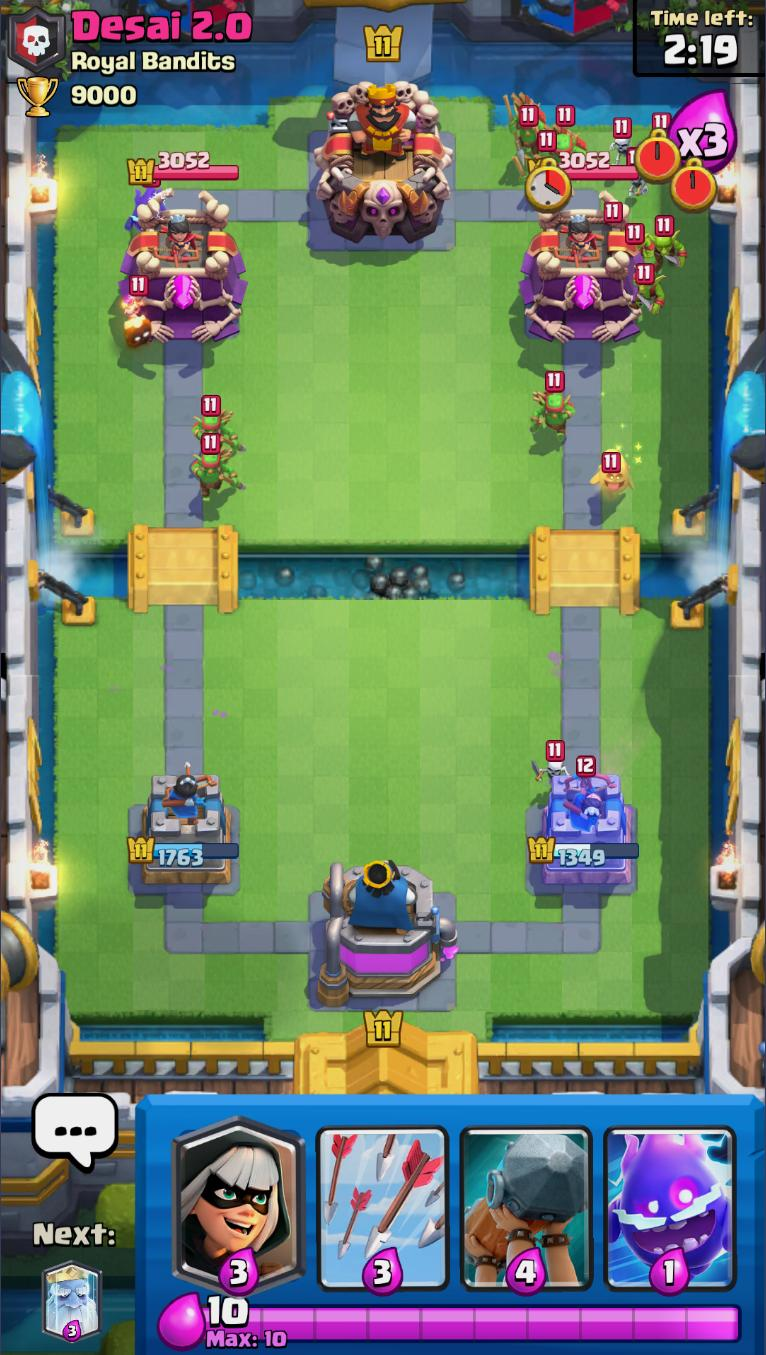ArrowDeck: (310, 1097, 456, 1293)
BanditDeck: (167, 1096, 311, 1290)
BattleRamDeck: (452, 1098, 597, 1297)
ElectroSpirit: (122, 182, 170, 235)
ElectroSpiritDeck: (596, 1097, 745, 1293)
Elixir: (203, 1289, 252, 1328)
EnemyTower: (522, 190, 650, 348), (120, 197, 238, 347)
FireSpirit: (120, 275, 155, 353)
Goblin: (650, 215, 690, 272), (628, 265, 668, 320)
HealSpirit: (590, 447, 633, 497)
KingTower: (313, 73, 450, 257)
MyKingTower: (315, 860, 462, 1010)
MyPrincessTower: (122, 773, 240, 892), (530, 767, 642, 887)
MyPrincessTowerHP: (128, 837, 238, 867), (532, 838, 642, 867)
PrincessTower: (552, 212, 607, 270), (155, 210, 205, 265)
RoyaleGhostNext: (42, 1257, 103, 1343)
Skeleton: (603, 115, 645, 168), (528, 740, 573, 787), (623, 147, 655, 193)
SpearGoblin: (190, 428, 233, 507), (532, 370, 577, 442), (503, 92, 542, 170), (550, 107, 592, 162), (193, 398, 237, 443)
TowerPrincessHP: (527, 150, 642, 188), (128, 149, 240, 185)
